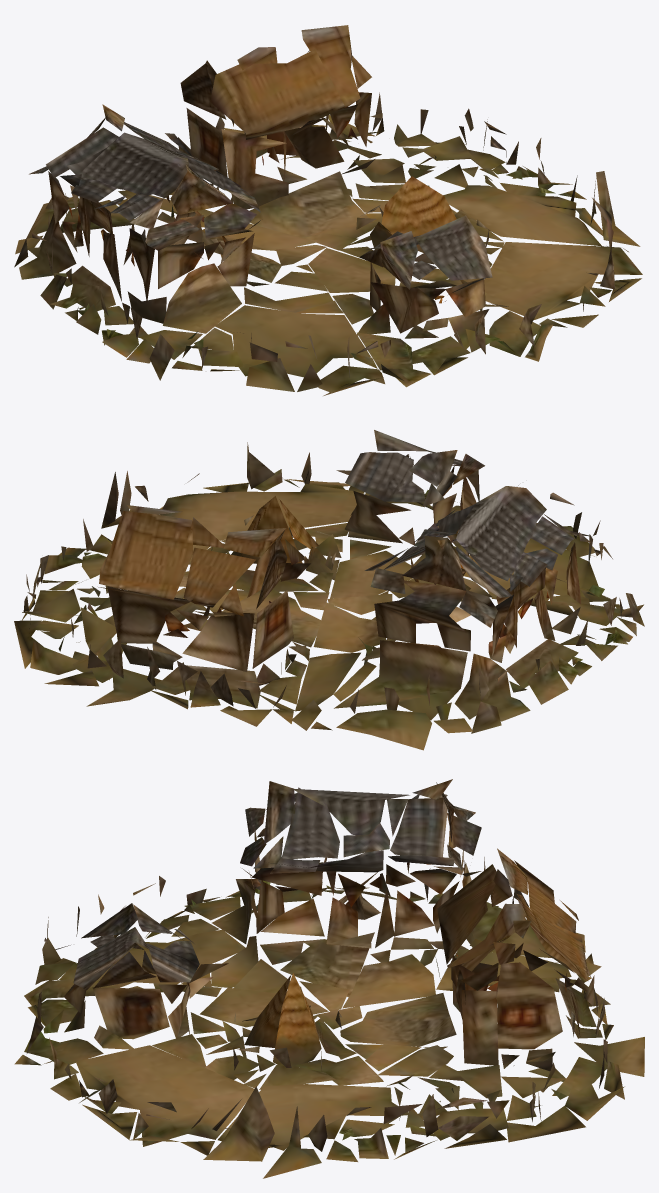
Rendered from hamlet.glb.
3 renders of one model, top to bottom at view 1: azimuth 30°, elevation 25°; view 2: azimuth 150°, elevation 25°; view 3: azimuth 270°, elevation 25°, orthographic. The views are drawn at different scales.
Visible parts, largest first — view 1: x-hamlet; view 2: x-hamlet; view 3: x-hamlet.
Part boxes in pixels (left/top/right/bottom): x-hamlet: left=14, top=25, right=642, bottom=395; x-hamlet: left=14, top=430, right=644, bottom=750; x-hamlet: left=14, top=779, right=644, bottom=1178.
Size of the model in its own units: 0.2586 by 0.0845 by 0.2569.
1 material, 1 textured.
